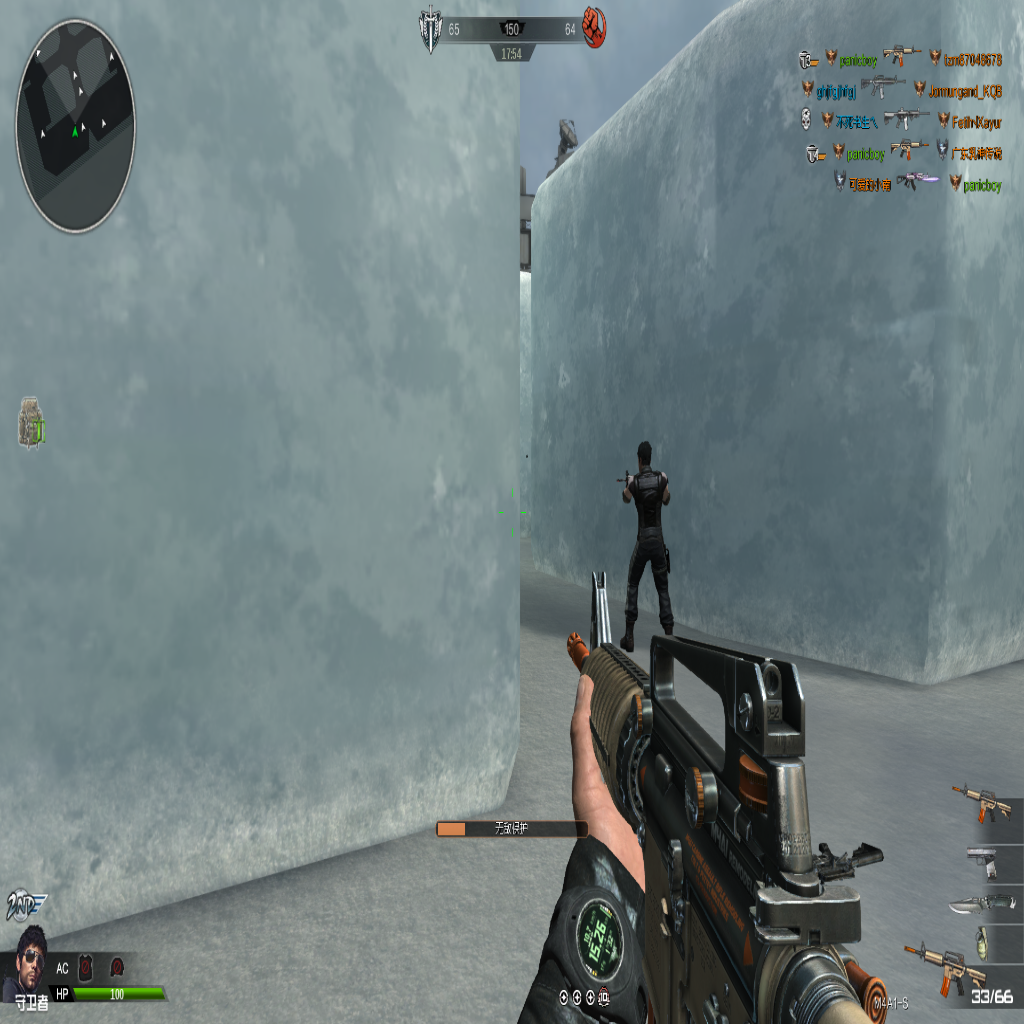ct: (618, 437, 677, 661)
